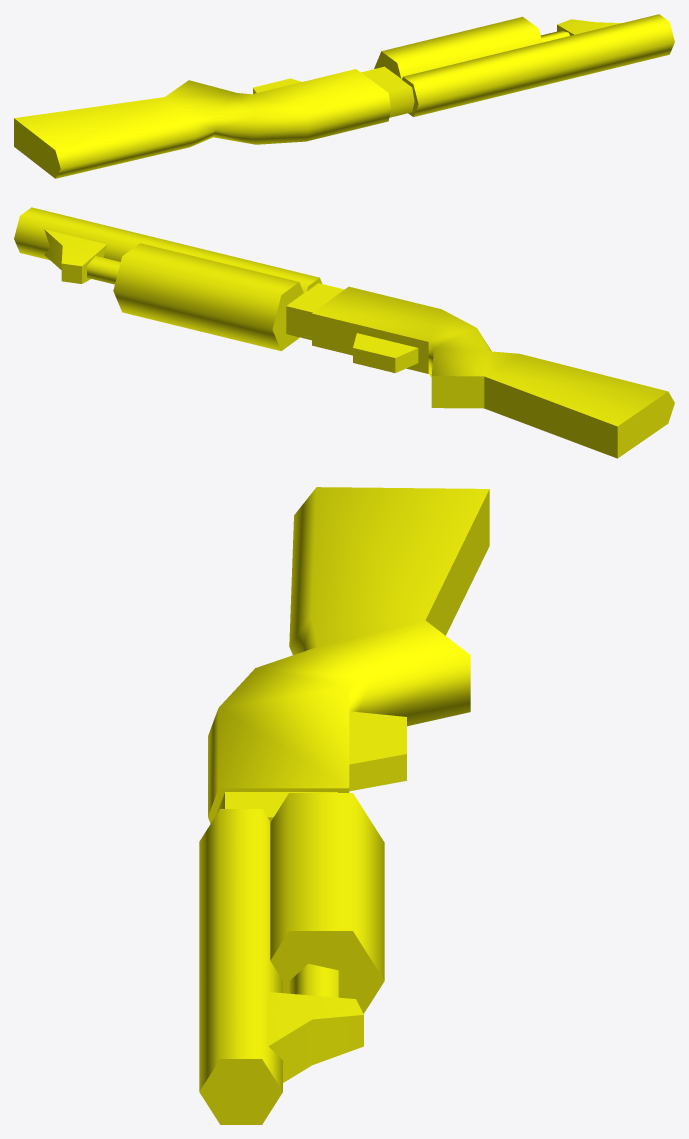
The model's file is weapon_shotgun.glb.
The picture shows the model from 3 angles, top to bottom: view 1: azimuth 30°, elevation 25°; view 2: azimuth 150°, elevation 25°; view 3: azimuth 270°, elevation 25°; orthographic projection. The views are drawn at different scales.
Visible parts, largest first — view 1: weapon_shotgun; view 2: weapon_shotgun; view 3: weapon_shotgun.
Part boxes in pixels (box(x1,y1,x2,y2)): weapon_shotgun: box(14, 14, 674, 178); weapon_shotgun: box(14, 207, 674, 458); weapon_shotgun: box(199, 487, 489, 1124).
Size of the model in its own units: 1.54 by 0.1248 by 0.3286.
Materials: 1 (1 with a texture image).
